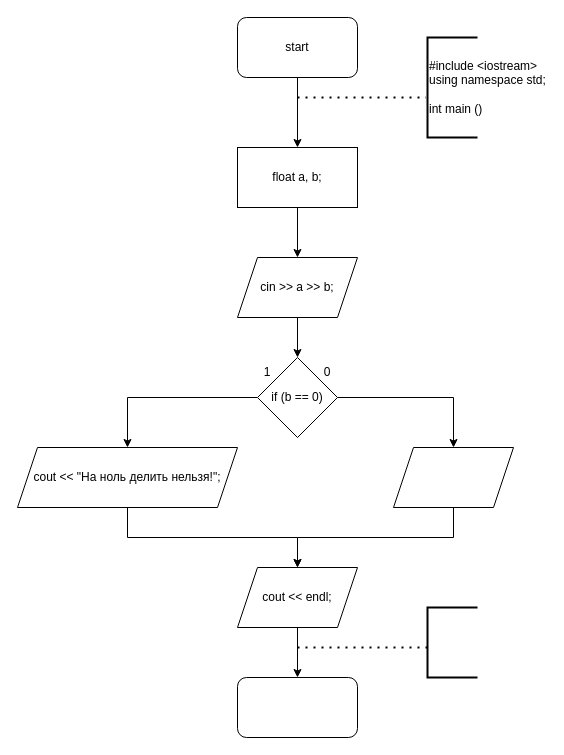
The diagram is 564 pixels wide and 755 high, and some of its shapes have lost their labels. Each missing label, with the box of its shape:
cout << a / b;: (392, 446, 514, 508)
end: (236, 676, 358, 738)
return 0;: (426, 606, 478, 678)
